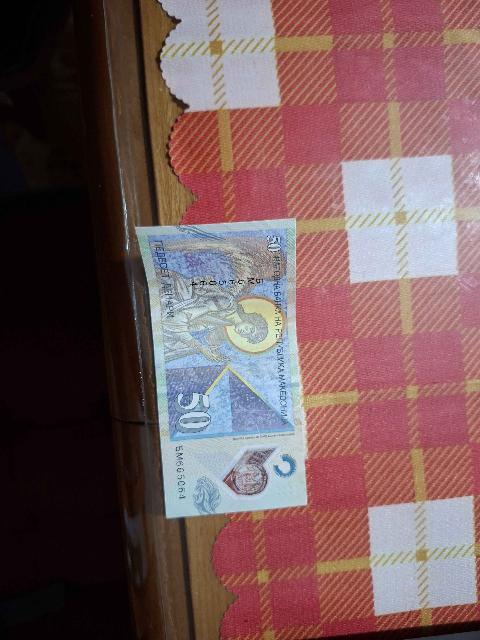note: (136, 220, 306, 517)
